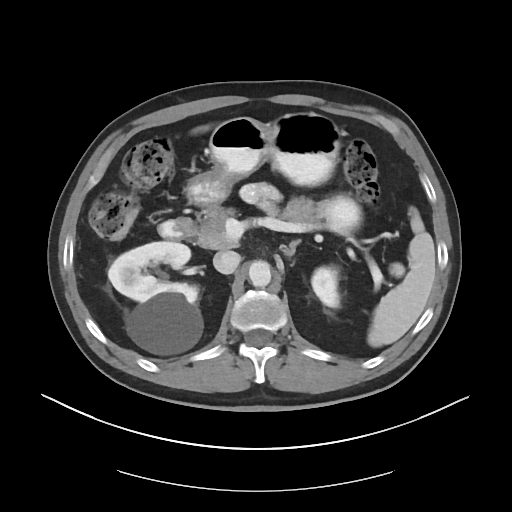Lesion: (122, 287, 210, 359)
